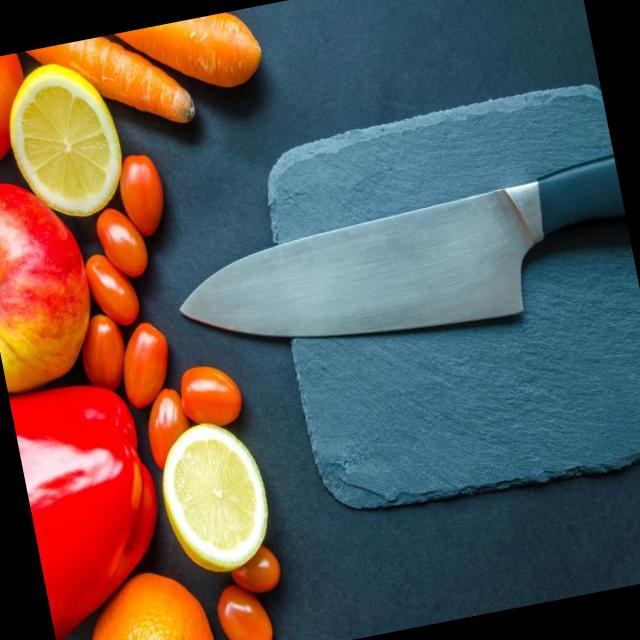Knife: (178, 151, 627, 341)
